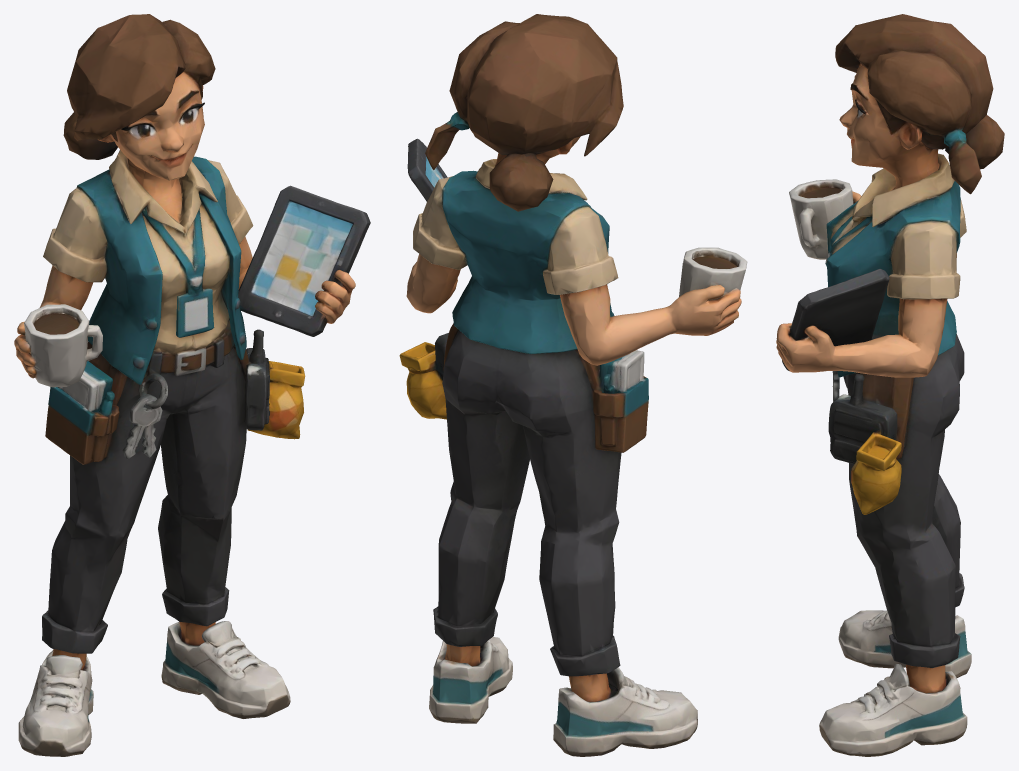
Rendered from employee_room_character_1k_real.glb.
3 renders of one model, left to right at view 1: azimuth 30°, elevation 25°; view 2: azimuth 150°, elevation 25°; view 3: azimuth 270°, elevation 25°, orthographic. The views are drawn at different scales.
Visible parts, largest first — view 1: tripo_node_bb1c3811-e743-4dc1-80ff-889a6a4b163e; view 2: tripo_node_bb1c3811-e743-4dc1-80ff-889a6a4b163e; view 3: tripo_node_bb1c3811-e743-4dc1-80ff-889a6a4b163e.
Part boxes in pixels (x1,y1,x2,y2): tripo_node_bb1c3811-e743-4dc1-80ff-889a6a4b163e: [14, 14, 370, 756]; tripo_node_bb1c3811-e743-4dc1-80ff-889a6a4b163e: [399, 14, 747, 756]; tripo_node_bb1c3811-e743-4dc1-80ff-889a6a4b163e: [776, 14, 1004, 756].
Bounding box in the file's own units: 0.5128 × 1 × 0.3038.
Materials: 1 (1 with a texture image).
